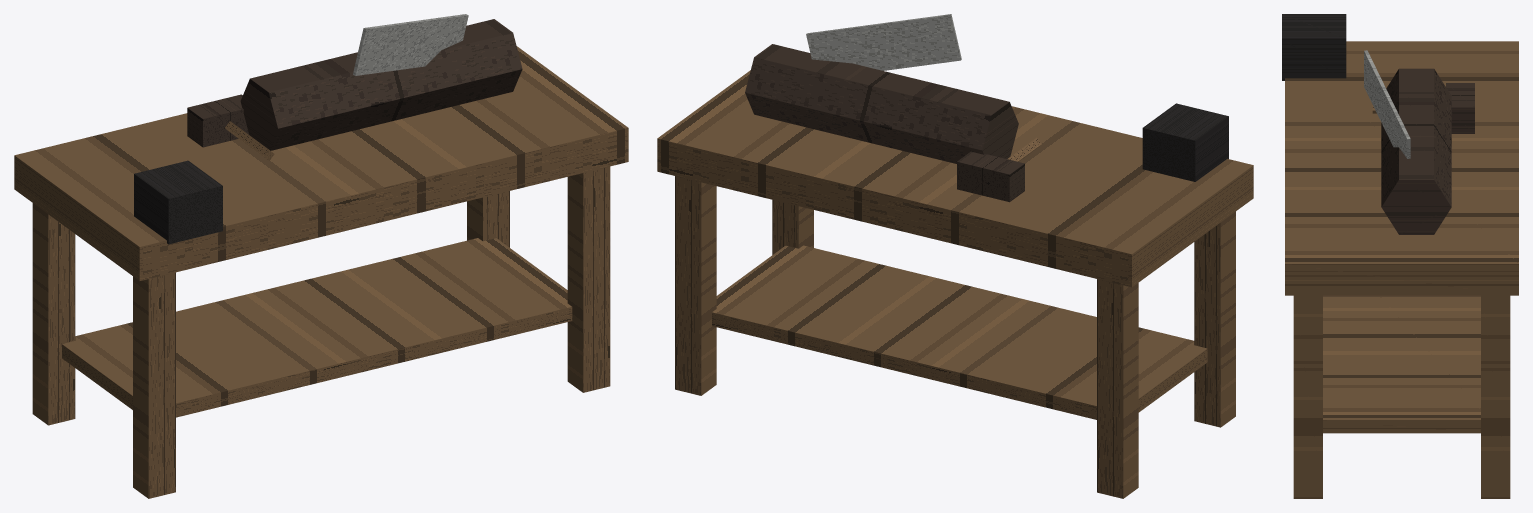
The model's file is workbench.glb.
3 views of the same model, side by side, from view 1: azimuth 30°, elevation 25°; view 2: azimuth 150°, elevation 25°; view 3: azimuth 270°, elevation 25° (orthographic). The views are drawn at different scales.
Parts seen in each view (by area): view 1: workbench; view 2: workbench; view 3: workbench.
Boxes of the visible parts, <box> form: workbench: <box>14,14,628,498</box>; workbench: <box>657,14,1253,498</box>; workbench: <box>1282,14,1518,498</box>.
Bounding box in the file's own units: 1.8 × 1.34 × 0.81.
Materials: 1 (1 with a texture image).
